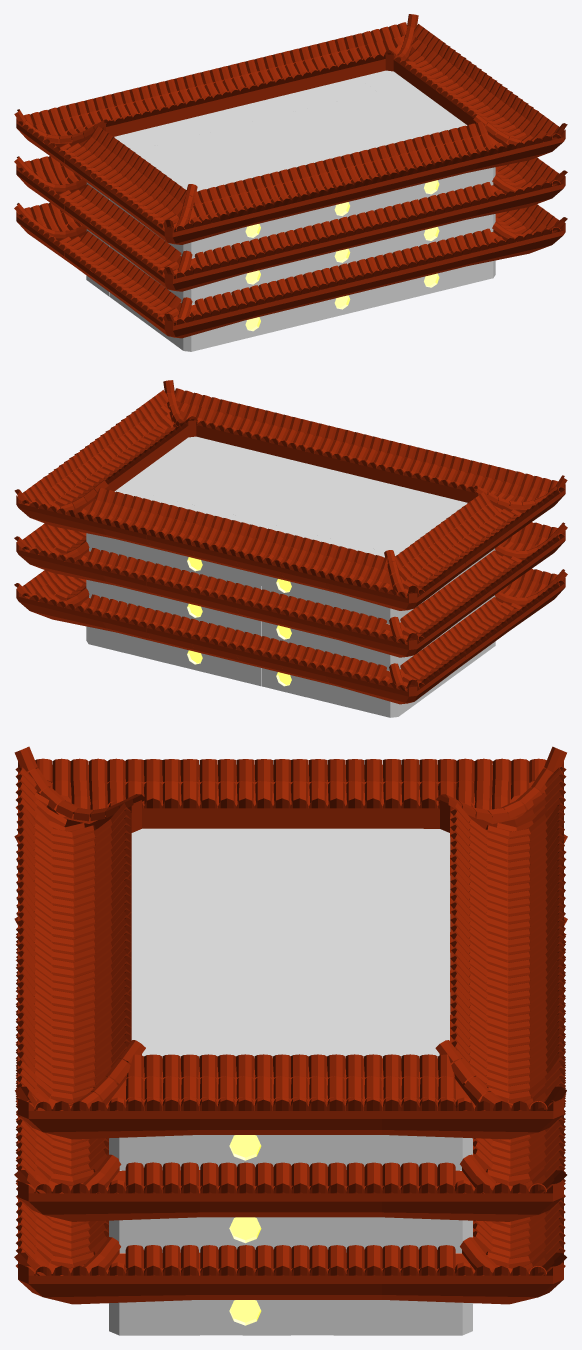
File: #3 Homes.fbx
3 renders of one model, top to bottom at view 1: azimuth 30°, elevation 25°; view 2: azimuth 150°, elevation 25°; view 3: azimuth 270°, elevation 25°, orthographic. The views are drawn at different scales.
Parts seen in each view (by area): view 1: Cube.002; view 2: Cube.002; view 3: Cube.002.
Part boxes in pixels (x1=…): Cube.002: x1=14, y1=14, x2=567, y2=351; Cube.002: x1=14, y1=380, x2=567, y2=717; Cube.002: x1=14, y1=746, x2=567, y2=1335.
Size of the model in its own units: 908 by 344 by 609.
